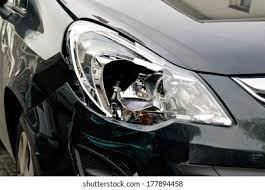Headlight-Damage: (64, 20, 183, 124)
front-bumper-dent: (10, 77, 170, 174)
